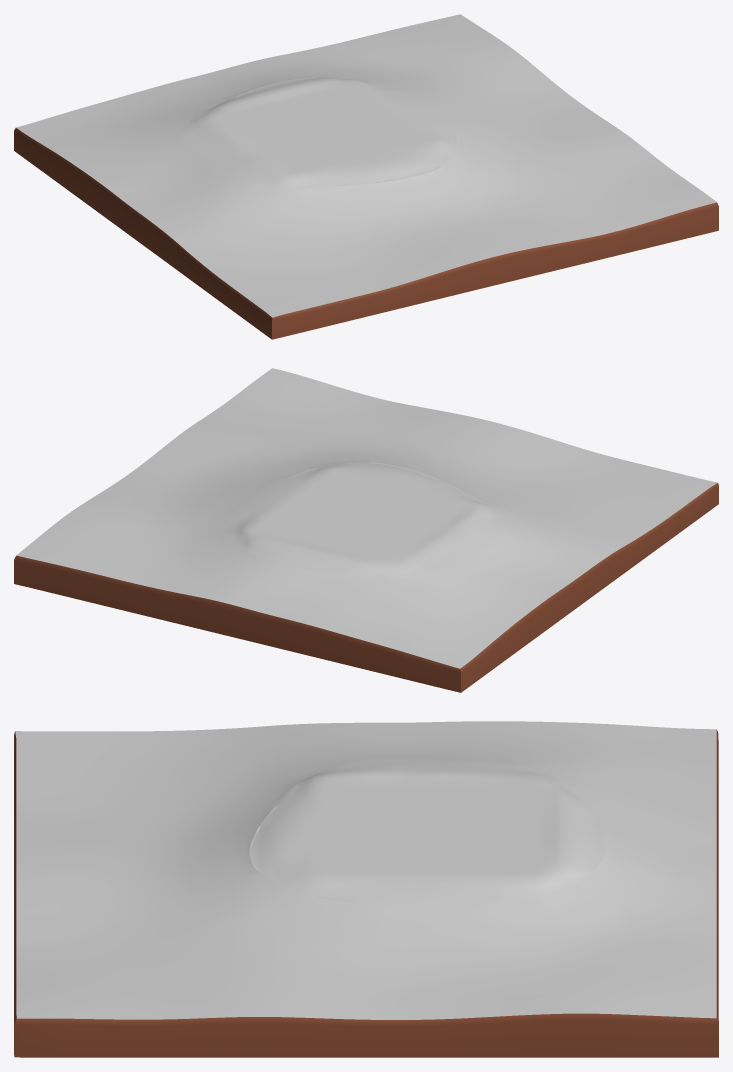
The model's file is ground.fbx.
The picture shows the model from 3 angles, top to bottom: view 1: azimuth 30°, elevation 25°; view 2: azimuth 150°, elevation 25°; view 3: azimuth 270°, elevation 25°; orthographic projection. The views are drawn at different scales.
Parts seen in each view (by area): view 1: ground; view 2: ground; view 3: ground.
Boxes of the visible parts, left/top/right/bottom form: ground: left=14, top=14, right=718, bottom=339; ground: left=14, top=368, right=718, bottom=692; ground: left=14, top=721, right=718, bottom=1057.
Size of the model in its own units: 8901 by 964 by 8907.
